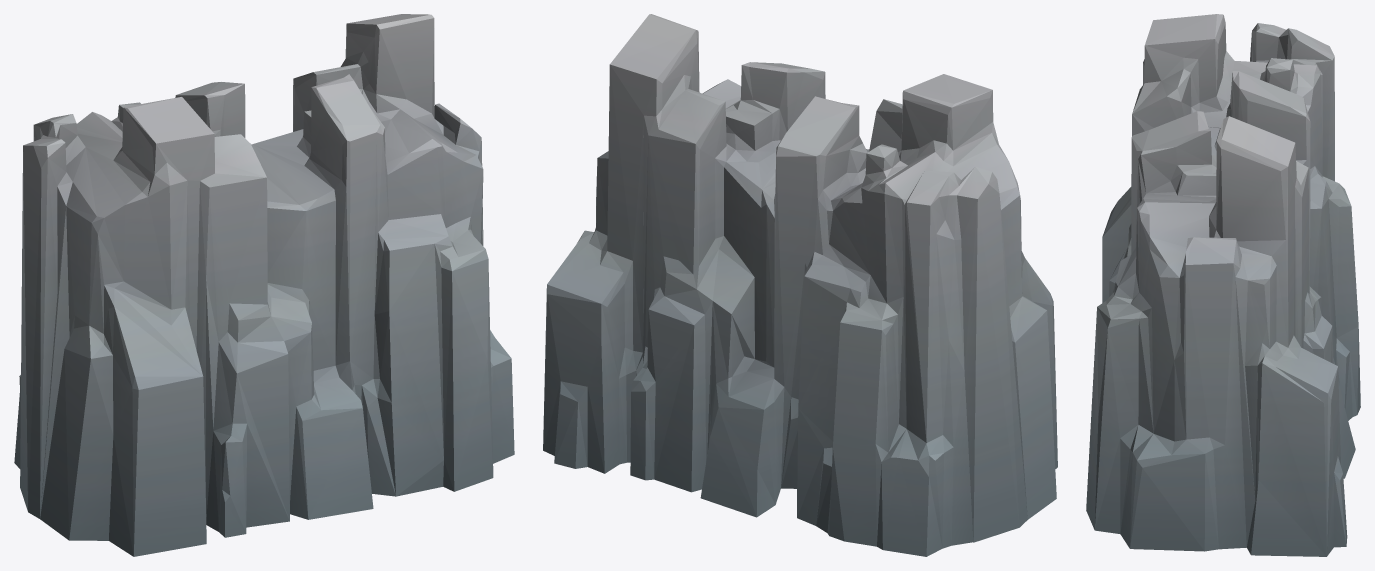
The model's file is cliff_a.glb.
The picture shows the model from 3 angles, left to right: view 1: azimuth 30°, elevation 25°; view 2: azimuth 150°, elevation 25°; view 3: azimuth 270°, elevation 25°; orthographic projection. The views are drawn at different scales.
Visible parts, largest first — view 1: Rock_Formation_1_1_A; view 2: Rock_Formation_1_1_A; view 3: Rock_Formation_1_1_A.
Boxes of the visible parts, <box> form: Rock_Formation_1_1_A: <box>14,14,514,556</box>; Rock_Formation_1_1_A: <box>543,14,1057,556</box>; Rock_Formation_1_1_A: <box>1086,14,1360,556</box>.
Size of the model in its own units: 4.82 by 4.33 by 2.73.
1 material, 1 textured.
